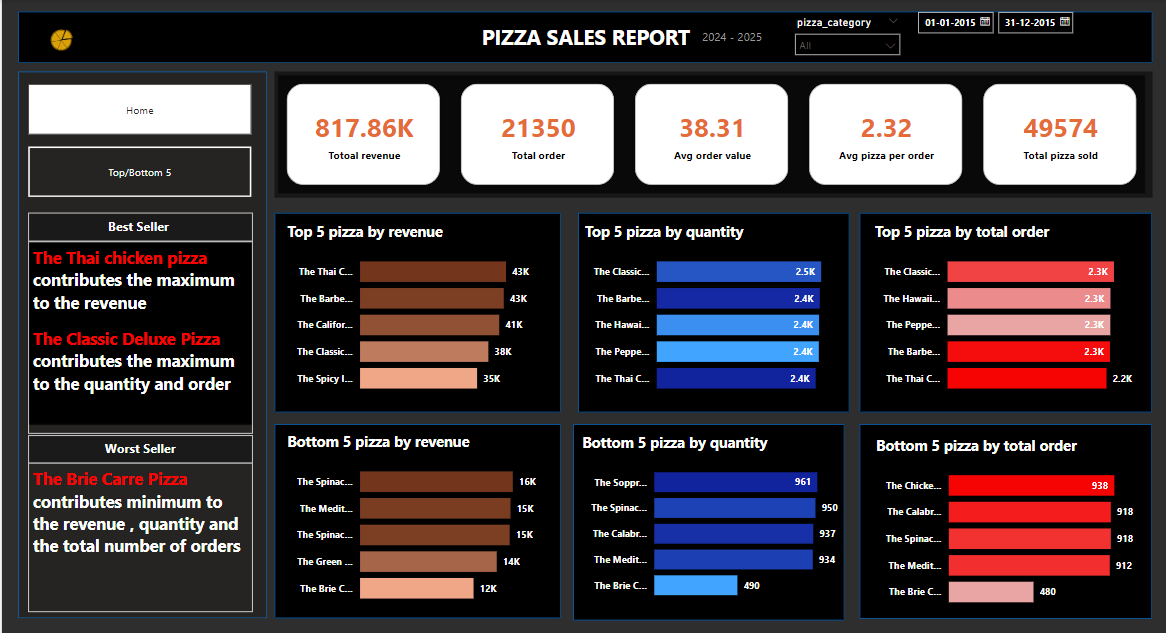

Layout of this report page (visuals, bound fields, positions):
{"tool":"powerbi","page":{"name":"Top/Bottom 5 ","canvas":[1500,820],"ordinal":1},"visuals":[{"type":"cardVisual","fields":{"Data":["pizza_sales.Totoal revenue","pizza_sales.Total order","pizza_sales.Avg order value","pizza_sales.Avg pizza per order","pizza_sales.Total pizza sold"]},"box":[350.4,93.4,1129.4,162.1],"z":0},{"type":"shape","title":"PIZZA SALES","box":[20.6,16.5,1459.2,66],"z":1000},{"type":"textbox","box":[572,25.3,357.3,46.7],"z":2000},{"type":"textbox","box":[895.8,33,97.6,33],"z":3000},{"type":"shape","box":[350.4,546.9,368.2,250.1],"z":4000},{"type":"shape","box":[735.1,546.9,349,252.8],"z":5000},{"type":"shape","box":[1103.1,546.7,376.3,250.9],"z":6000},{"type":"shape","box":[20.6,93.4,320.1,703.5],"z":7000},{"type":"shape","box":[33,306.4,288.5,240.5],"z":8000},{"type":"textbox","box":[33,274.8,288.5,37.1],"z":9000},{"type":"textbox","box":[33,311.9,288.5,247.3],"z":10000},{"type":"textbox","box":[33,596.3,288.5,192.4],"z":11000},{"type":"textbox","box":[33,560.6,288.5,35.7],"z":12000},{"type":"shape","box":[350.4,274.8,368.2,256.9],"z":13000},{"type":"shape","box":[740.6,274.8,349,256.9],"z":14000},{"type":"shape","box":[1103.3,274.8,376.5,256.9],"z":15000},{"type":"barChart","title":"Top 5 pizza by revenue","fields":{"Y":["pizza_sales.Totoal revenue"],"Category":["pizza_sales.pizza_name"]},"box":[361.8,286.2,342.5,234.8],"z":16000},{"type":"barChart","title":"Bottom 5 pizza by revenue","fields":{"Y":["pizza_sales.Totoal revenue"],"Category":["pizza_sales.pizza_name"]},"box":[361.8,556.4,342.5,234.8],"z":17000},{"type":"barChart","title":"Top 5 pizza by quantity","fields":{"Category":["pizza_sales.pizza_name"],"Y":["pizza_sales.Total pizza sold"]},"box":[744.5,286.2,339.3,234.8],"z":18000},{"type":"barChart","title":"Bottom 5 pizza by quantity","fields":{"Category":["pizza_sales.pizza_name"],"Y":["pizza_sales.Total pizza sold"]},"box":[741.3,558,339.3,228.3],"z":19000},{"type":"barChart","title":"Top 5 pizza by total order","fields":{"Category":["pizza_sales.pizza_name"],"Y":["pizza_sales.Total order"]},"box":[1117.6,286.2,344.1,234.8],"z":20000},{"type":"barChart","title":"Bottom 5 pizza by total order","fields":{"Category":["pizza_sales.pizza_name"],"Y":["pizza_sales.Total order"]},"box":[1119.2,561.2,344.1,234.8],"z":21000},{"type":"slicer","fields":{"Values":["pizza_sales.pizza_category"]},"box":[1009.9,16.1,156,59.5],"z":22000},{"type":"slicer","fields":{"Values":["pizza_sales.order_date"]},"box":[1165.8,6.4,223.5,69.1],"z":23000},{"type":"image","box":[20.9,20.9,111,61.1],"z":24000},{"type":"pageNavigator","box":[33.8,109.3,287.8,65.9],"z":25000},{"type":"pageNavigator","box":[33.8,189.8,287.8,65.9],"z":26000}]}

Visuals, with their boxes in screenshot pixels (x1, y1, x2, y2), scaled from the page's 1500x820 canvas onto the 1166x633 screenshot:
cardVisual - pizza_sales.Totoal revenue x pizza_sales.Total order: {"left": 272, "top": 72, "right": 1150, "bottom": 197}
"PIZZA SALES" shape: {"left": 16, "top": 13, "right": 1150, "bottom": 64}
textbox: {"left": 445, "top": 20, "right": 722, "bottom": 56}
textbox: {"left": 696, "top": 25, "right": 772, "bottom": 51}
shape: {"left": 272, "top": 422, "right": 559, "bottom": 615}
shape: {"left": 571, "top": 422, "right": 843, "bottom": 617}
shape: {"left": 857, "top": 422, "right": 1150, "bottom": 616}
shape: {"left": 16, "top": 72, "right": 265, "bottom": 615}
shape: {"left": 26, "top": 237, "right": 250, "bottom": 422}
textbox: {"left": 26, "top": 212, "right": 250, "bottom": 241}
textbox: {"left": 26, "top": 241, "right": 250, "bottom": 432}
textbox: {"left": 26, "top": 460, "right": 250, "bottom": 609}
textbox: {"left": 26, "top": 433, "right": 250, "bottom": 460}
shape: {"left": 272, "top": 212, "right": 559, "bottom": 410}
shape: {"left": 576, "top": 212, "right": 847, "bottom": 410}
shape: {"left": 858, "top": 212, "right": 1150, "bottom": 410}
"Top 5 pizza by revenue" barChart: {"left": 281, "top": 221, "right": 547, "bottom": 402}
"Bottom 5 pizza by revenue" barChart: {"left": 281, "top": 430, "right": 547, "bottom": 611}
"Top 5 pizza by quantity" barChart: {"left": 579, "top": 221, "right": 842, "bottom": 402}
"Bottom 5 pizza by quantity" barChart: {"left": 576, "top": 431, "right": 840, "bottom": 607}
"Top 5 pizza by total order" barChart: {"left": 869, "top": 221, "right": 1136, "bottom": 402}
"Bottom 5 pizza by total order" barChart: {"left": 870, "top": 433, "right": 1137, "bottom": 614}
slicer - pizza_sales.pizza_category: {"left": 785, "top": 12, "right": 906, "bottom": 58}
slicer - pizza_sales.order_date: {"left": 906, "top": 5, "right": 1080, "bottom": 58}
image: {"left": 16, "top": 16, "right": 103, "bottom": 63}
pageNavigator: {"left": 26, "top": 84, "right": 250, "bottom": 135}
pageNavigator: {"left": 26, "top": 147, "right": 250, "bottom": 197}
